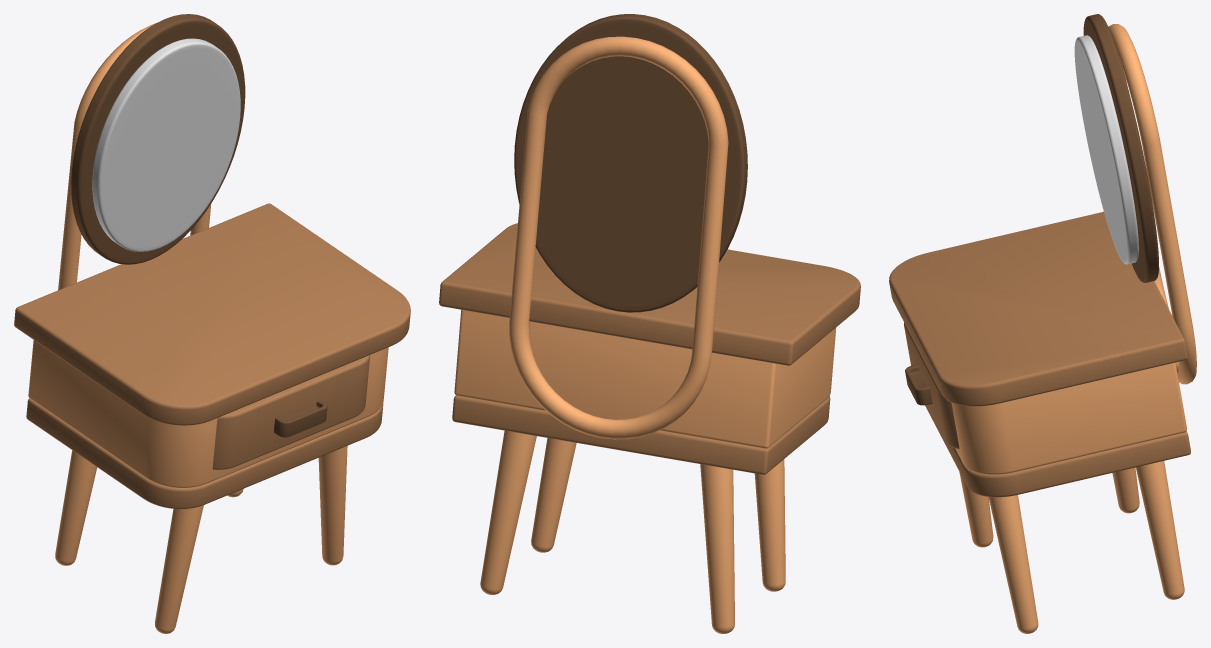
Rendered from Dressing Table.fbx.
3 renders of one model, left to right at view 1: azimuth 30°, elevation 25°; view 2: azimuth 150°, elevation 25°; view 3: azimuth 270°, elevation 25°, orthographic. The views are drawn at different scales.
Visible parts, largest first — view 1: Cube.095, Cylinder.024, Cube.096, Cylinder.023, Cube.099, Cube.097, Cylinder.021, Torus.004, Cylinder.022, Cylinder.019, Cube.098; view 2: Cylinder.023, Cube.096, Cube.095, Torus.004, Cube.099, Cylinder.019, Cylinder.020, Cylinder.021, Cylinder.022; view 3: Cube.095, Cube.096, Cylinder.024, Torus.004, Cube.099, Cylinder.023, Cylinder.022, Cylinder.020, Cube.097, Cylinder.021, Cylinder.019, Cube.098.
Boxes of the visible parts, left/top/right/bottom form: Cube.095: left=14, top=203, right=410, bottom=425; Cylinder.024: left=92, top=38, right=240, bottom=251; Cube.096: left=28, top=340, right=388, bottom=487; Cylinder.023: left=71, top=14, right=245, bottom=264; Cube.099: left=26, top=398, right=383, bottom=508; Cube.097: left=212, top=355, right=370, bottom=469; Cylinder.021: left=155, top=505, right=203, bottom=633; Torus.004: left=58, top=23, right=211, bottom=290; Cylinder.022: left=318, top=446, right=347, bottom=565; Cylinder.019: left=55, top=450, right=97, bottom=565; Cube.098: left=274, top=399, right=327, bottom=437; Cylinder.023: left=514, top=14, right=747, bottom=312; Cube.096: left=454, top=309, right=836, bottom=448; Cube.095: left=439, top=223, right=860, bottom=365; Torus.004: left=509, top=36, right=728, bottom=439; Cube.099: left=452, top=395, right=830, bottom=474; Cylinder.019: left=700, top=464, right=734, bottom=633; Cylinder.020: left=480, top=430, right=536, bottom=594; Cylinder.021: left=754, top=459, right=785, bottom=591; Cylinder.022: left=531, top=438, right=576, bottom=552; Cube.095: left=889, top=211, right=1187, bottom=406; Cube.096: left=951, top=362, right=1186, bottom=474; Cylinder.024: left=1074, top=35, right=1138, bottom=264; Torus.004: left=1108, top=24, right=1196, bottom=384; Cube.099: left=925, top=405, right=1190, bottom=497; Cylinder.023: left=1083, top=14, right=1158, bottom=282; Cylinder.022: left=988, top=495, right=1038, bottom=633; Cylinder.020: left=1136, top=461, right=1184, bottom=599; Cube.097: left=904, top=322, right=959, bottom=449; Cylinder.021: left=959, top=472, right=993, bottom=547; Cylinder.019: left=1112, top=467, right=1139, bottom=513; Cube.098: left=905, top=364, right=932, bottom=405.
Bounding box in the file's own units: 332 × 542 × 272.
